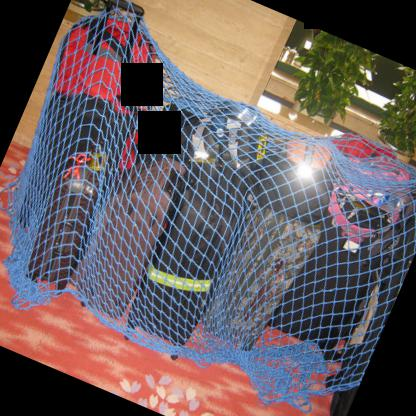backpack: (254, 133, 335, 223), (117, 103, 206, 173)
handbag: (326, 157, 412, 243)
suitcase: (14, 0, 160, 230), (127, 163, 245, 351), (324, 186, 416, 416), (266, 199, 399, 351), (70, 158, 186, 317), (200, 207, 320, 352), (22, 145, 112, 296)
